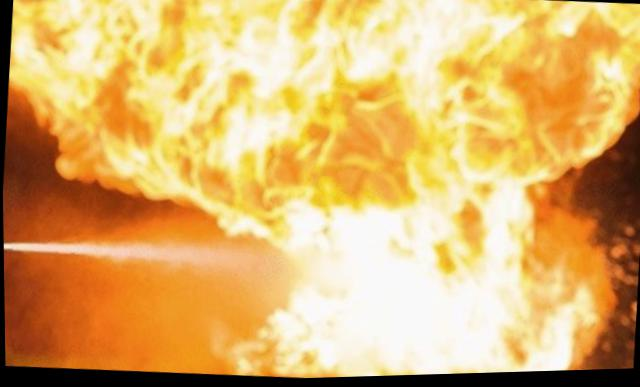fire: (7, 0, 639, 136), (42, 82, 623, 170), (53, 118, 571, 201), (310, 236, 543, 379), (54, 157, 532, 211), (121, 175, 536, 225), (218, 201, 545, 259), (539, 288, 603, 374), (281, 241, 316, 379)
smoke: (3, 254, 207, 378), (14, 199, 197, 248), (5, 133, 45, 197)
